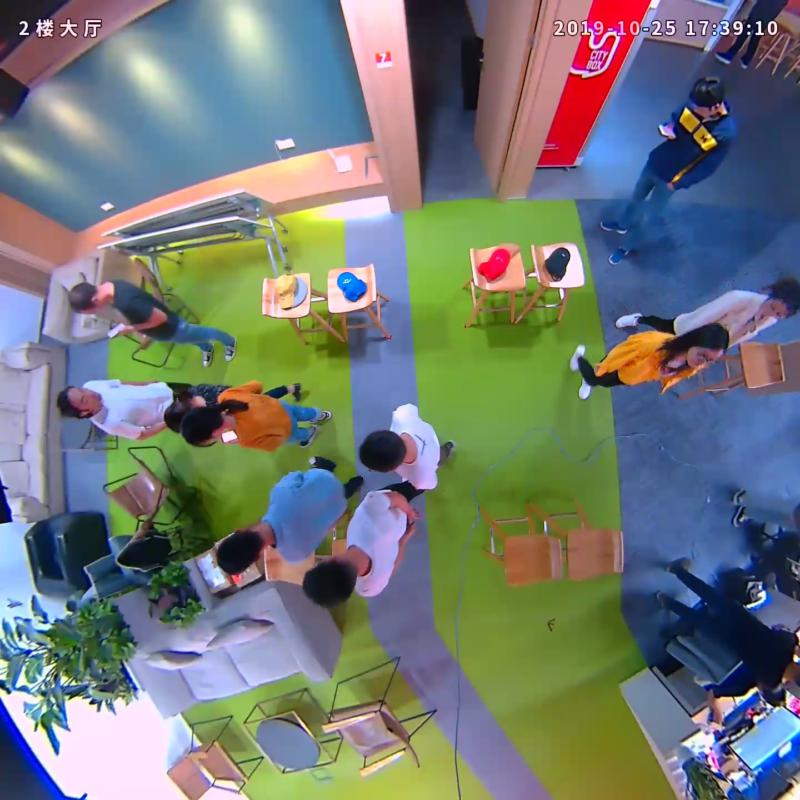head: (303, 558, 357, 607), (216, 528, 265, 575), (357, 430, 407, 474), (687, 323, 730, 369), (180, 404, 227, 446), (55, 384, 103, 418), (689, 74, 725, 118), (762, 281, 800, 319), (68, 281, 105, 313)
